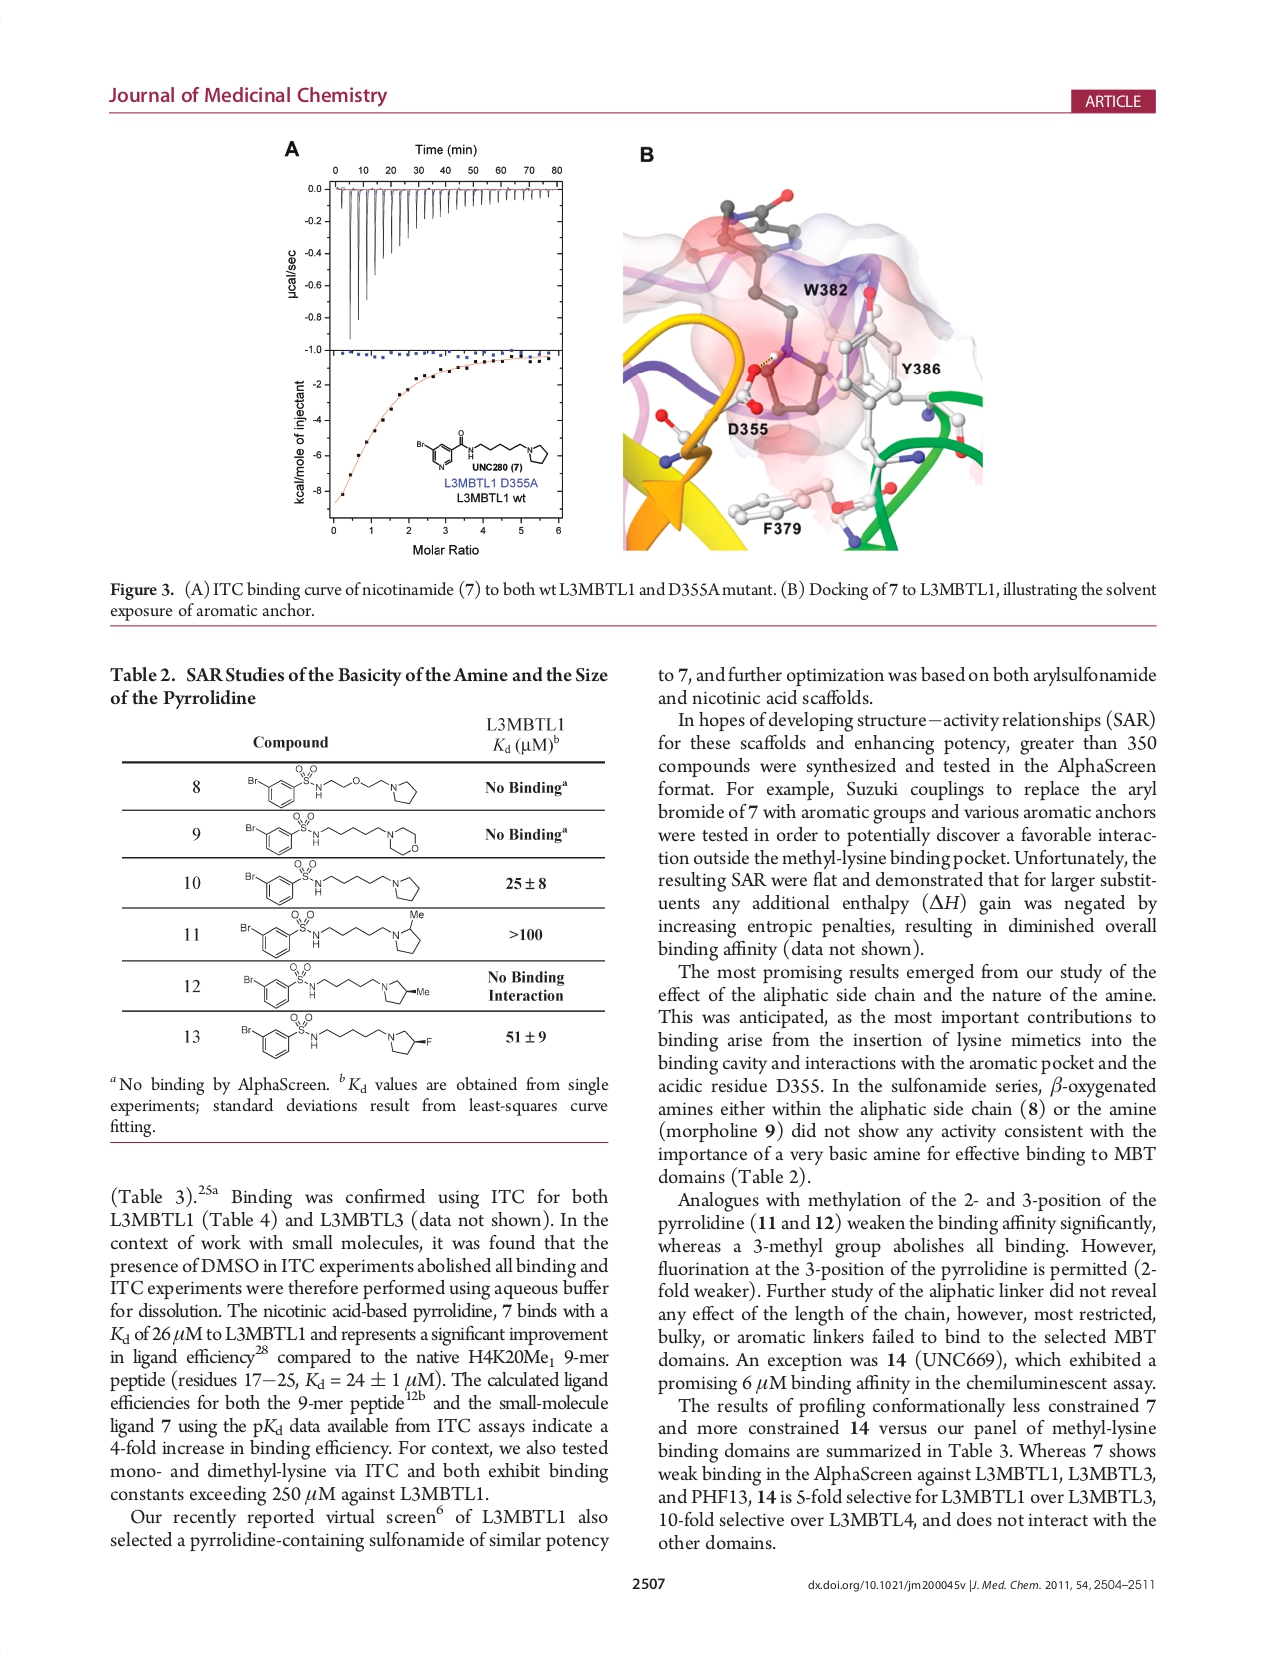exist_molecular: (237, 1009, 435, 1059), (237, 962, 434, 1009), (238, 908, 426, 958), (242, 859, 422, 906), (242, 810, 419, 856), (243, 763, 418, 809), (414, 424, 552, 473)
